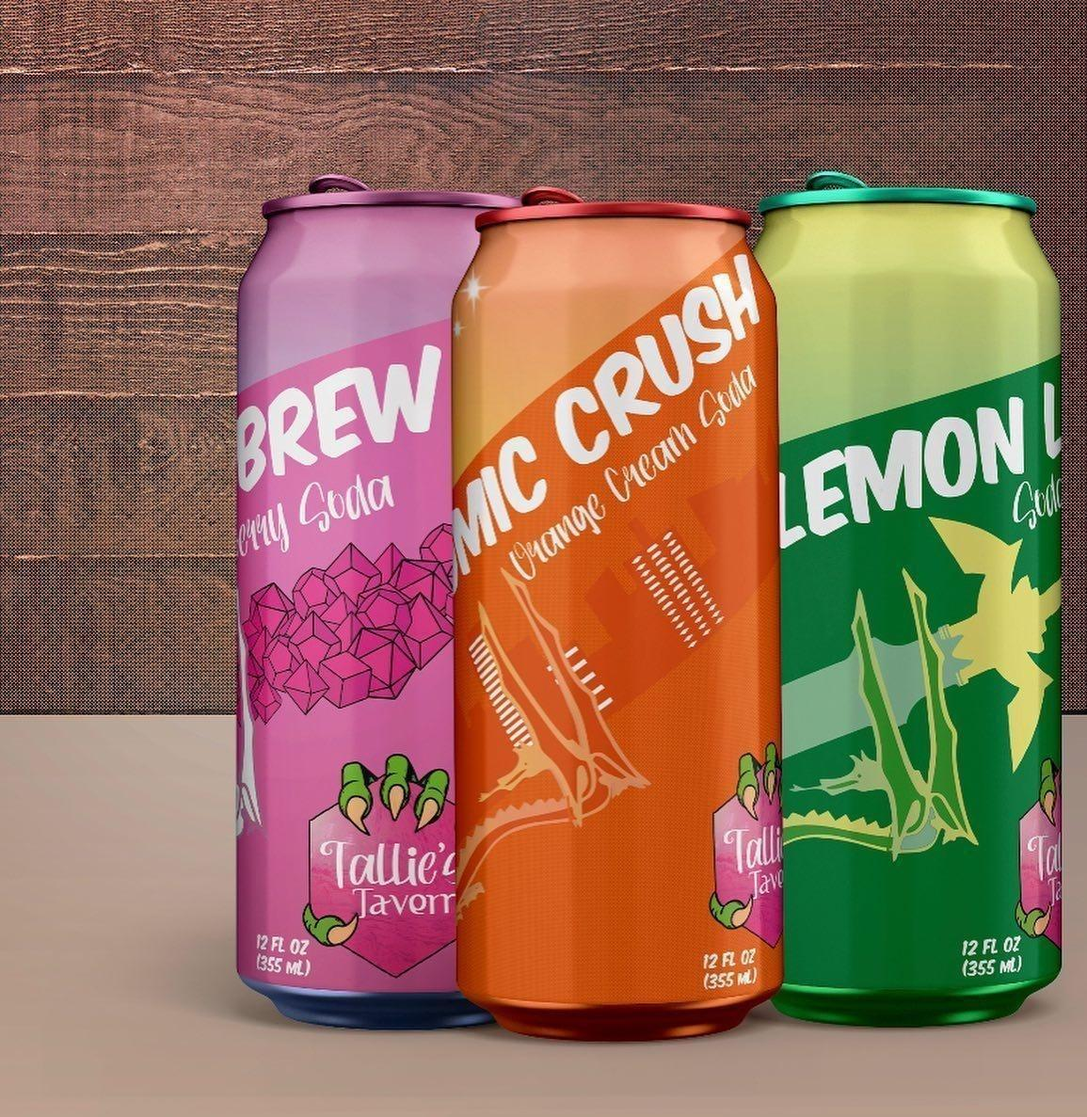tin can: (440, 187, 797, 1050), (756, 168, 1083, 1040), (229, 172, 472, 1044)
